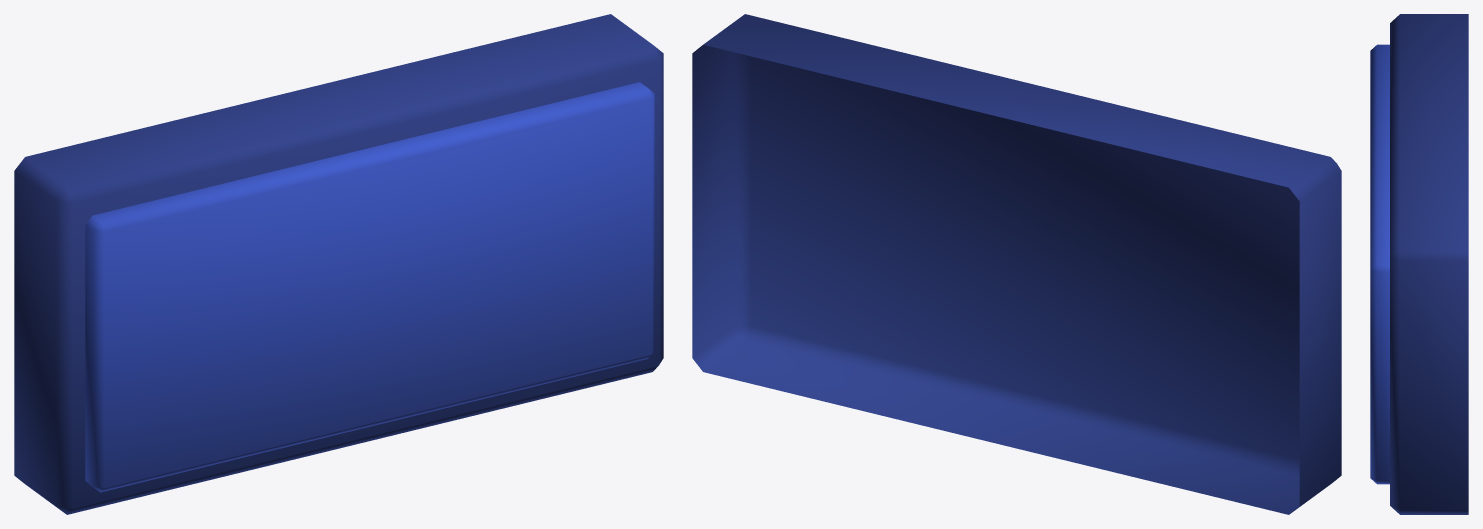
File: ElectricBox_2_B_2.glb
3 views of the same model, side by side, from view 1: azimuth 30°, elevation 25°; view 2: azimuth 150°, elevation 25°; view 3: azimuth 270°, elevation 25° (orthographic). The views are drawn at different scales.
Visible parts, largest first — view 1: ElectricBox_2_B_2; view 2: ElectricBox_2_B_2; view 3: ElectricBox_2_B_2.
Boxes of the visible parts, x1,y1,x2,y2 form: ElectricBox_2_B_2: (14, 14, 663, 514); ElectricBox_2_B_2: (692, 14, 1341, 514); ElectricBox_2_B_2: (1370, 14, 1468, 514).
Bounding box in the file's own units: 0.8815 × 0.4542 × 0.1517.
1 material, 1 textured.
